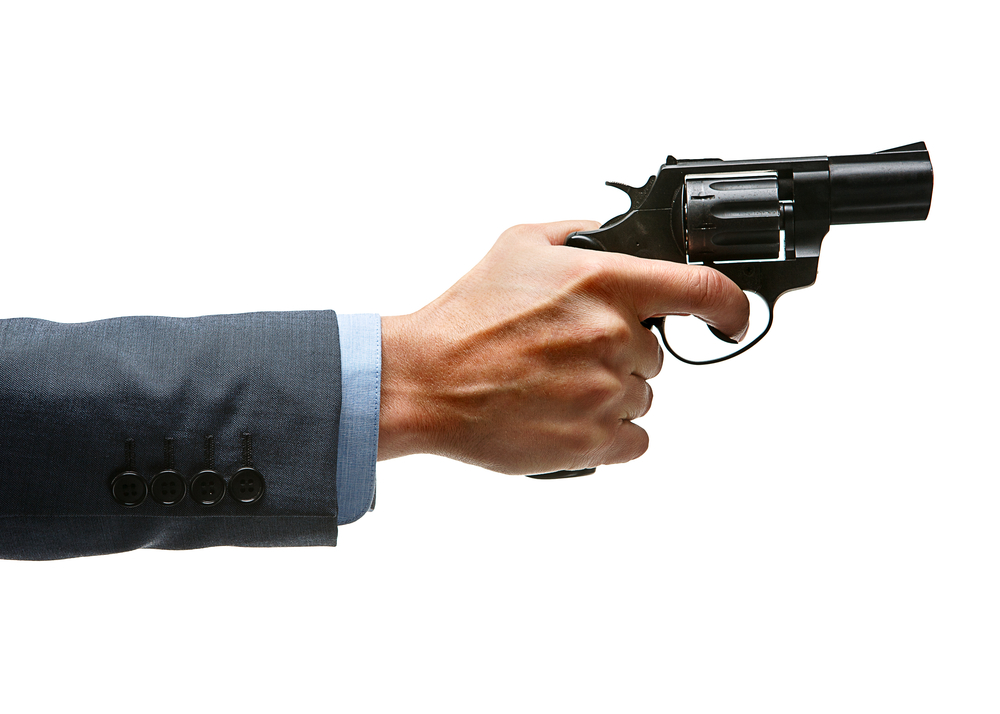Revolver: (537, 144, 939, 472)
